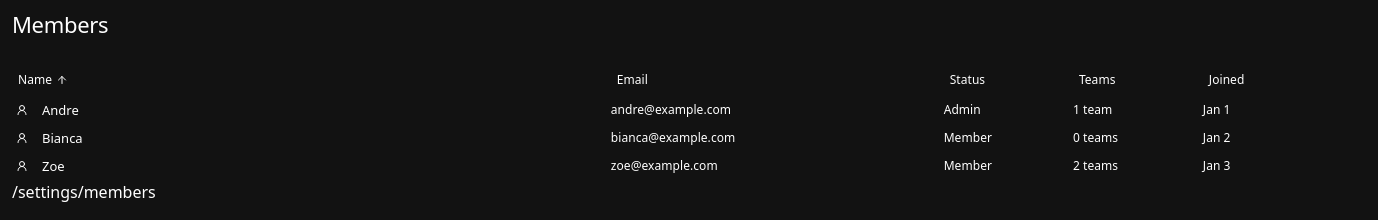
Scenario: MembersPage › mostra a coluna Teams com singular/plural e ordena por ela
The width and height of the screenshot is (1378, 220).
Check: the row "Zoe zoe@example.com Member 2 teams Jan 3" is shown, box 12,152 -> 1377,180
Check: the row "Andre andre@example.com Admin 1 team Jan 1" is shown, box 12,96 -> 1377,124
Click the button "Teams" at [1097, 80], box 1073,68 -> 1122,92
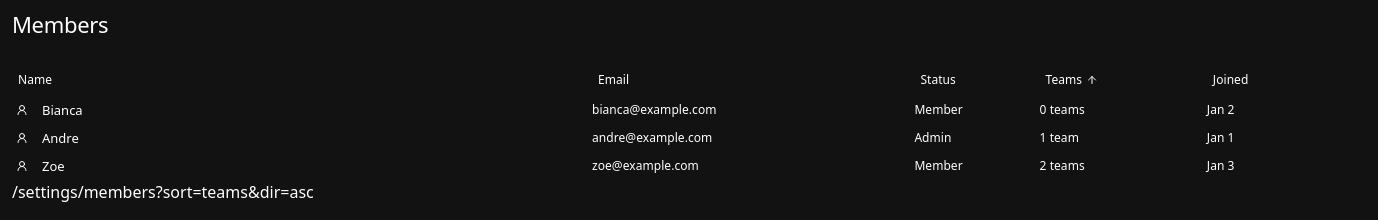
Check: the row "Bianca bianca@example.com Member 0 teams Jan 2" is shown, box 12,96 -> 1377,124
Check: the text named "Current URL" reads "/settings/members?sort=teams&dir=asc", box 12,181 -> 314,203
